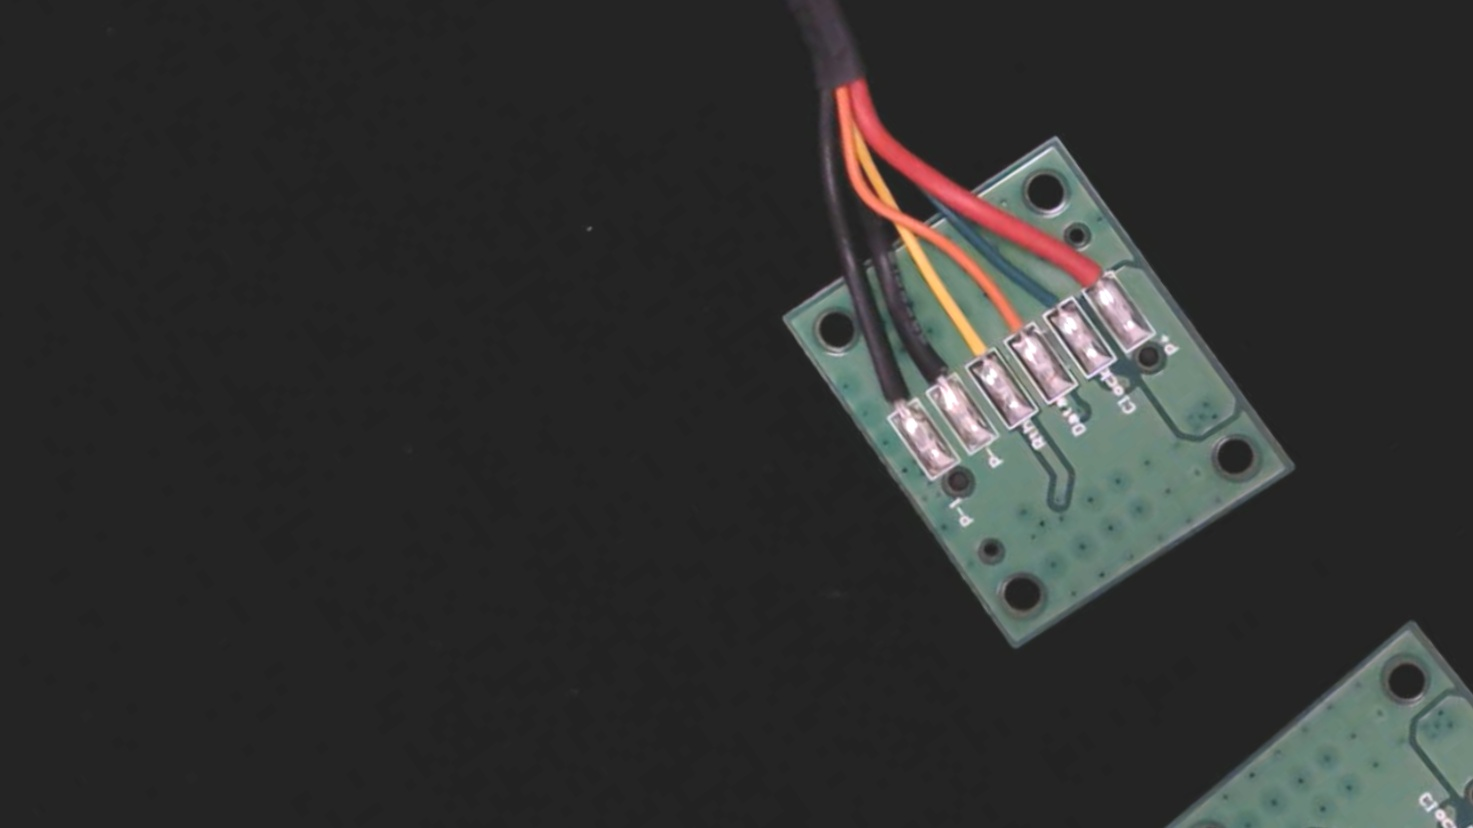Black: (891, 326, 971, 412)
Black1: (849, 345, 936, 439)
Green: (1009, 257, 1087, 337)
Orange: (974, 276, 1048, 356)
Red: (1049, 231, 1123, 308)
Yellow: (931, 302, 1010, 387)
